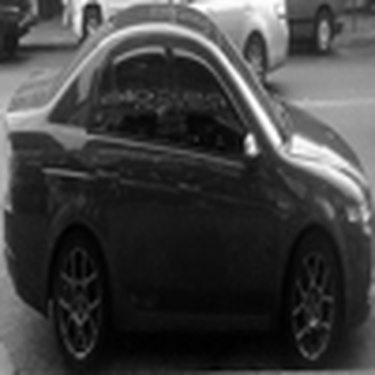car: (3, 1, 369, 370), (174, 1, 297, 91), (56, 1, 169, 48), (283, 1, 359, 60), (1, 3, 54, 64)
